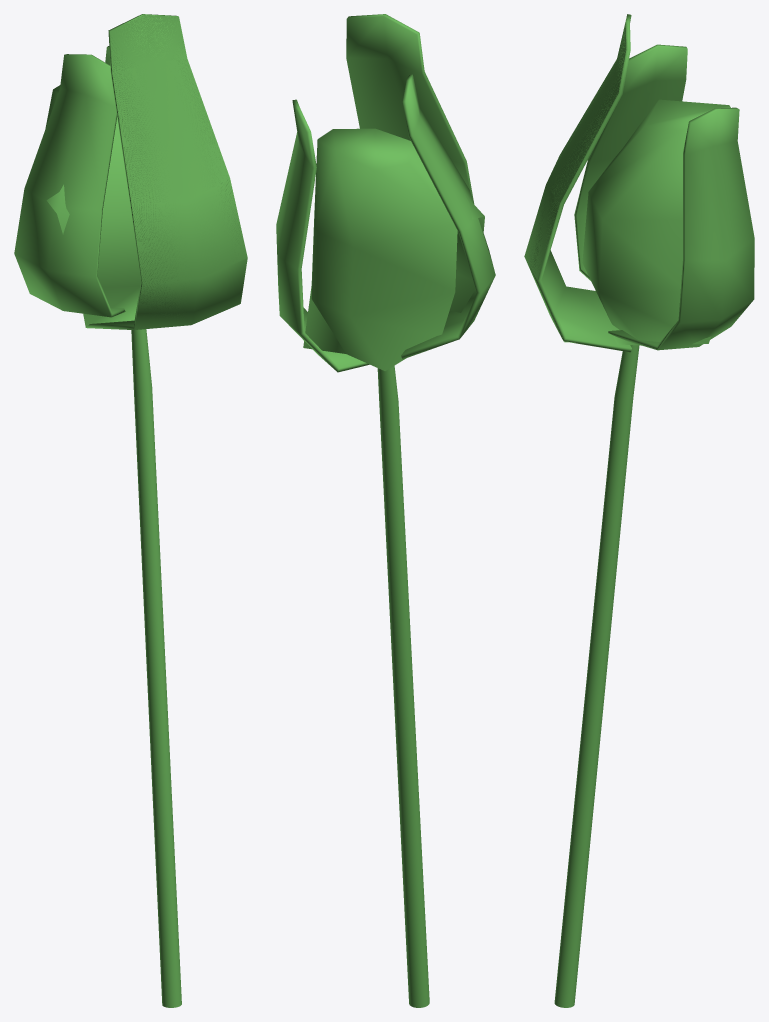
Rendered from corn_middle.glb.
3 renders of one model, left to right at view 1: azimuth 30°, elevation 25°; view 2: azimuth 150°, elevation 25°; view 3: azimuth 270°, elevation 25°, orthographic. The views are drawn at different scales.
Parts seen in each view (by area): view 1: Corn.010, Corn.011; view 2: Corn.010, Corn.011; view 3: Corn.010, Corn.011.
Part boxes in pixels (<box>): Corn.010: <box>45,15,247,1007</box>; Corn.011: <box>14,14,247,329</box>; Corn.010: <box>303,128,484,1007</box>; Corn.011: <box>276,14,495,372</box>; Corn.010: <box>524,22,730,1007</box>; Corn.011: <box>524,14,754,352</box>.
Bounding box in the file's own units: 0.2916 × 1.45 × 0.3065.
